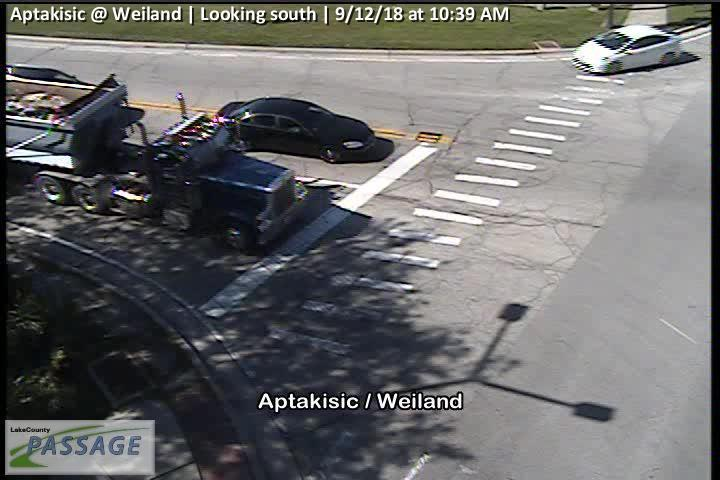Sedan: (211, 95, 377, 165), (569, 24, 682, 74)
Truck: (1, 65, 309, 256)
